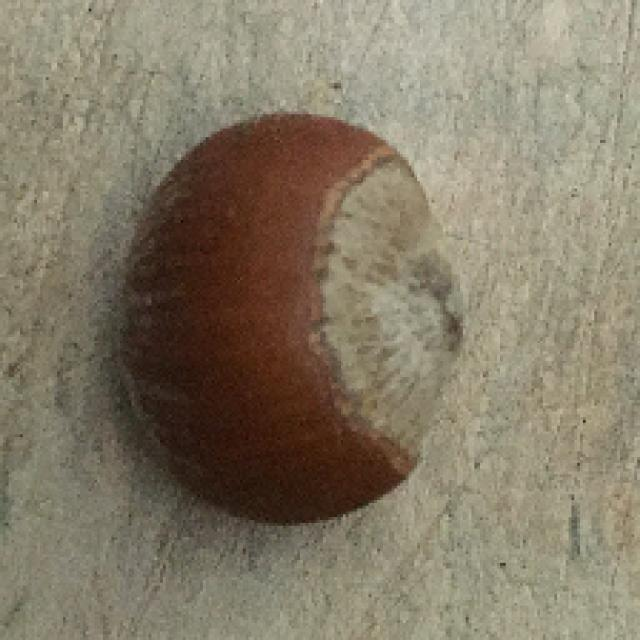qualityHazelnut: (104, 110, 464, 523)
